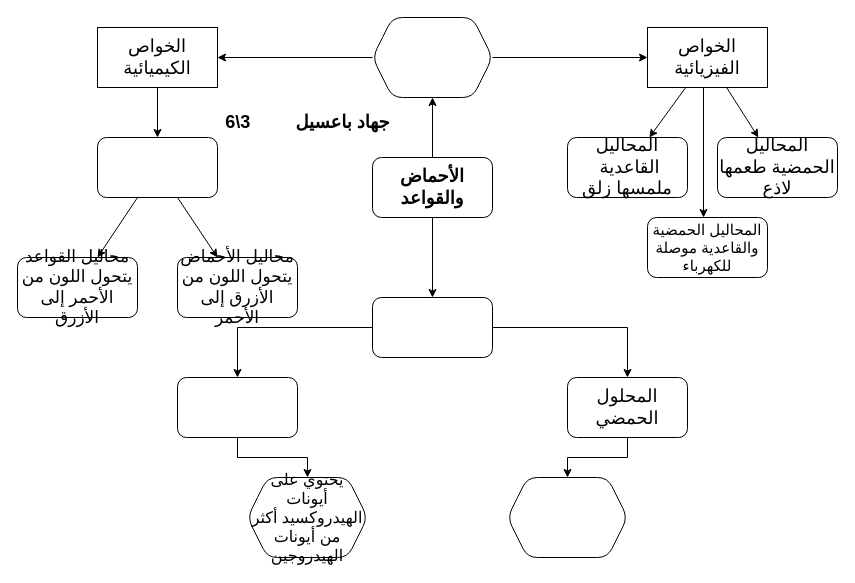
This 855x583 diagram has some shape labels left out. Here are the shapes that lost their labels. From the top down, the centre of each, then its label:
At point 432,57: "خواص الأحماض والقواعد".
At point 157,167: "التفاعل مع ورق تباع الشمس".
At point 432,327: "أيونات الهيدرونيوم والهيدروكسيد".
At point 237,407: "المحلول القاعدي".
At point 567,517: "يحتوي على أيونات الهيدروجين أكثر من أيونات الهيدروكسيد".
